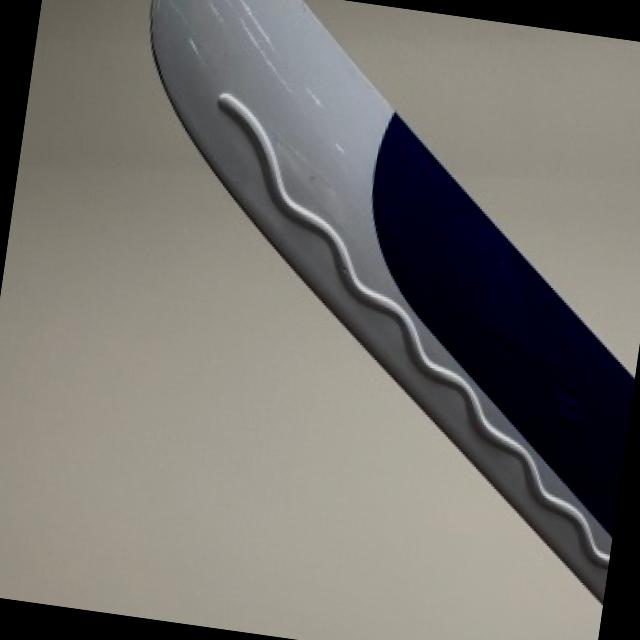healthy: (149, 0, 633, 599)
